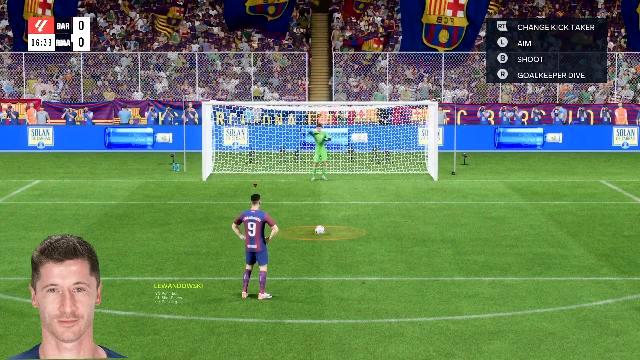bottom-left: (205, 149, 288, 181)
bottom-right: (357, 148, 433, 180)
center-down: (288, 150, 357, 180)
center-up: (288, 106, 352, 146)
circle: (272, 226, 368, 242)
football: (313, 228, 327, 234)
goalkeeper: (301, 124, 341, 184)
player: (232, 195, 284, 300)
top-left: (207, 104, 287, 146)
top-right: (354, 105, 434, 146)
